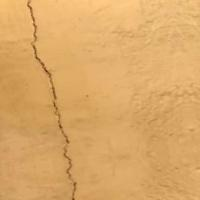crack: (17, 0, 97, 199)
